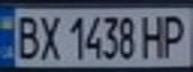1: (63, 12, 84, 61)
3: (100, 12, 121, 60)
4: (81, 12, 106, 61)
8: (118, 12, 139, 60)
B: (9, 11, 42, 61)
H: (139, 11, 172, 60)
P: (157, 11, 193, 58)
X: (33, 11, 63, 61)
